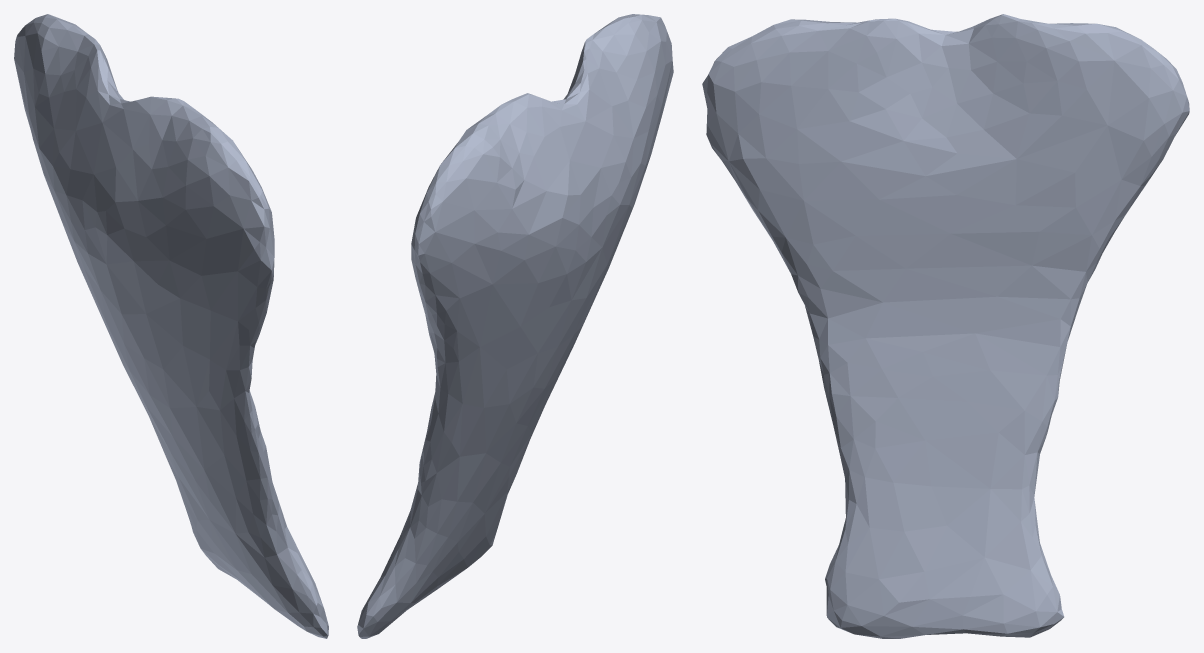
3 views of the same model, side by side, from view 1: azimuth 30°, elevation 25°; view 2: azimuth 150°, elevation 25°; view 3: azimuth 270°, elevation 25° (orthographic). The views are drawn at different scales.
Visible parts, largest first — view 1: 581.obj; view 2: 581.obj; view 3: 581.obj.
Part boxes in pixels (x1=…): 581.obj: x1=14, y1=14, x2=328, y2=638; 581.obj: x1=357, y1=14, x2=673, y2=638; 581.obj: x1=702, y1=14, x2=1189, y2=638.
Bounding box in the file's own units: 713 × 1931 × 1544.
